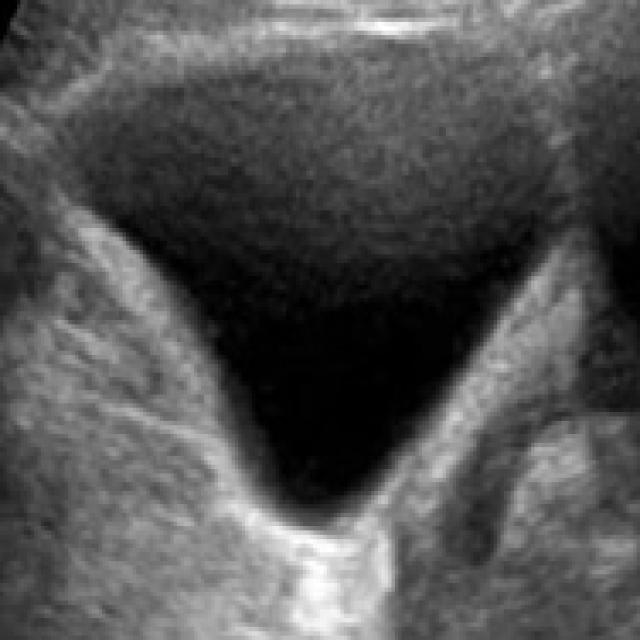bladder: (38, 16, 606, 602)
